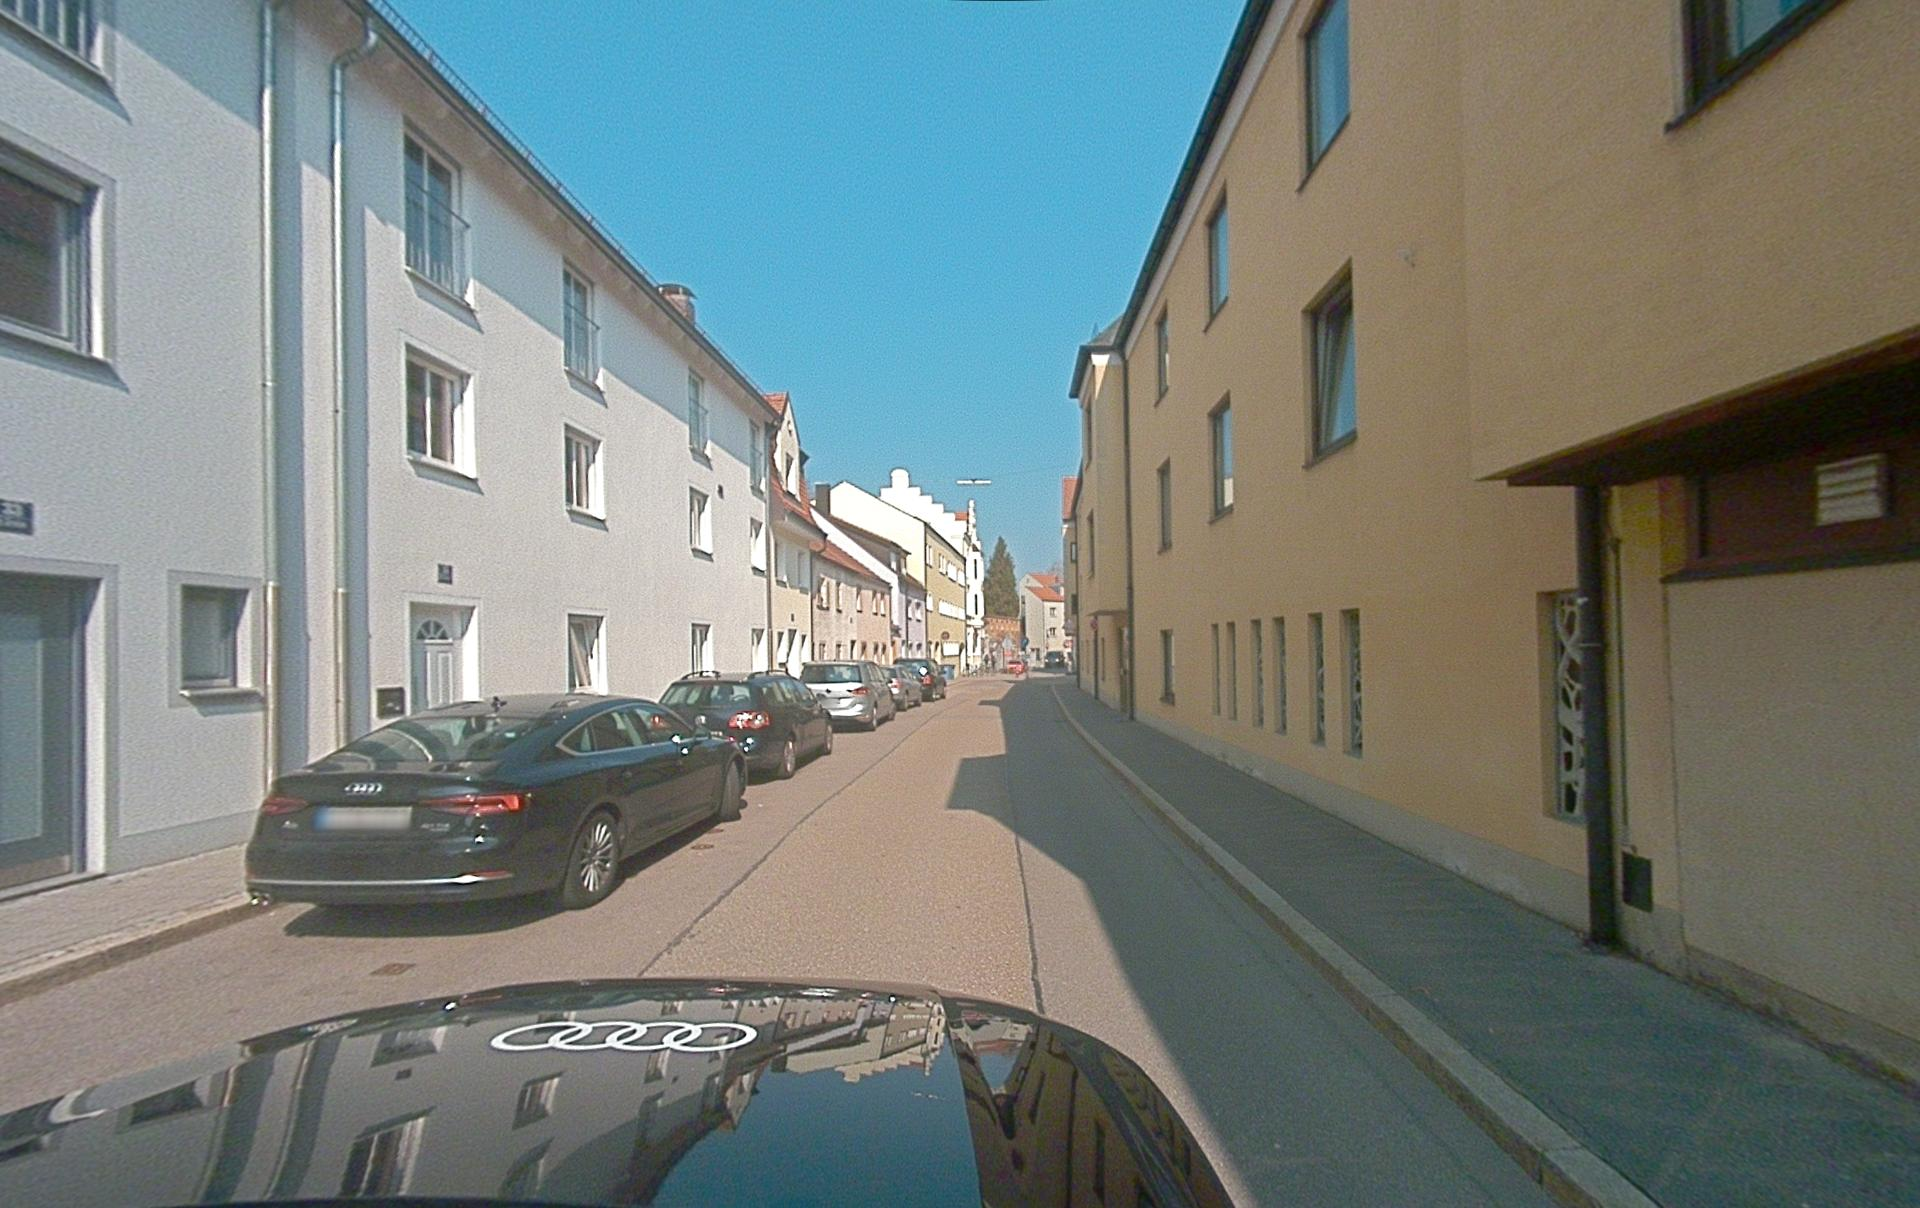car: (0, 976, 1240, 1207), (243, 690, 749, 913), (658, 669, 833, 781), (799, 660, 896, 732), (895, 658, 947, 701), (881, 665, 922, 710), (1043, 651, 1066, 669), (1006, 658, 1027, 676)
